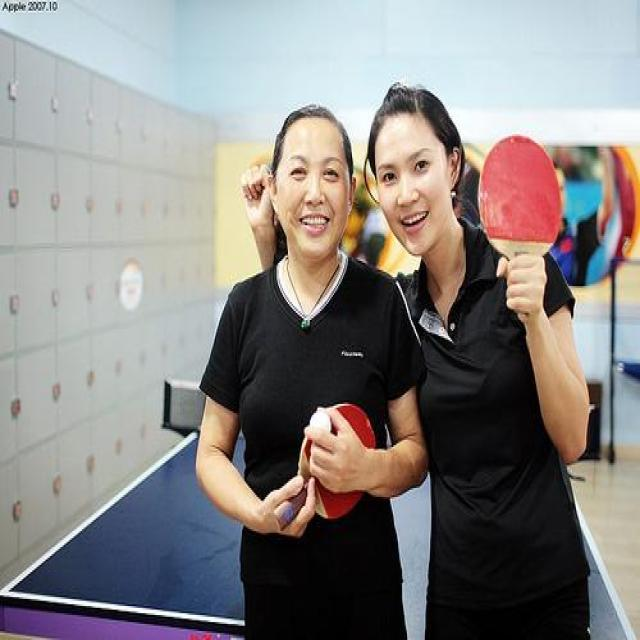ping-pong-ball: (309, 411, 332, 438)
